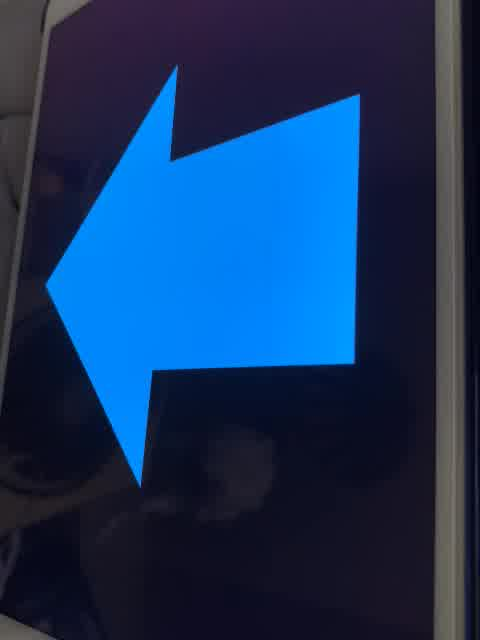left: (41, 61, 400, 495)
